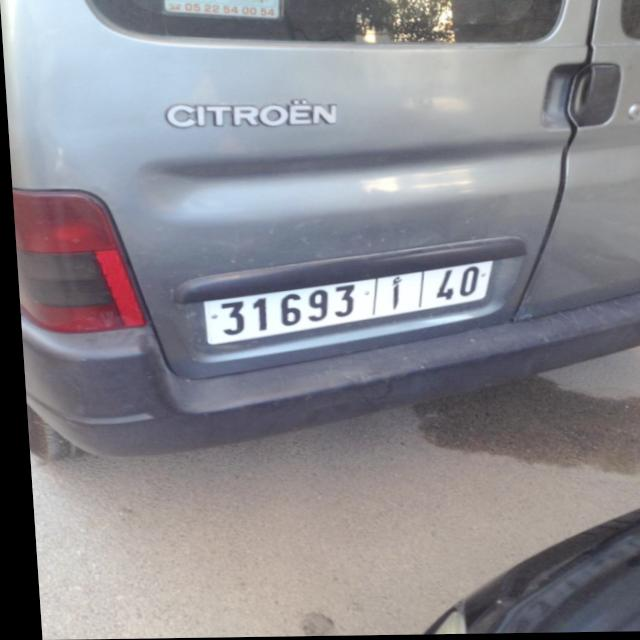License-Plate: (199, 263, 489, 345)
